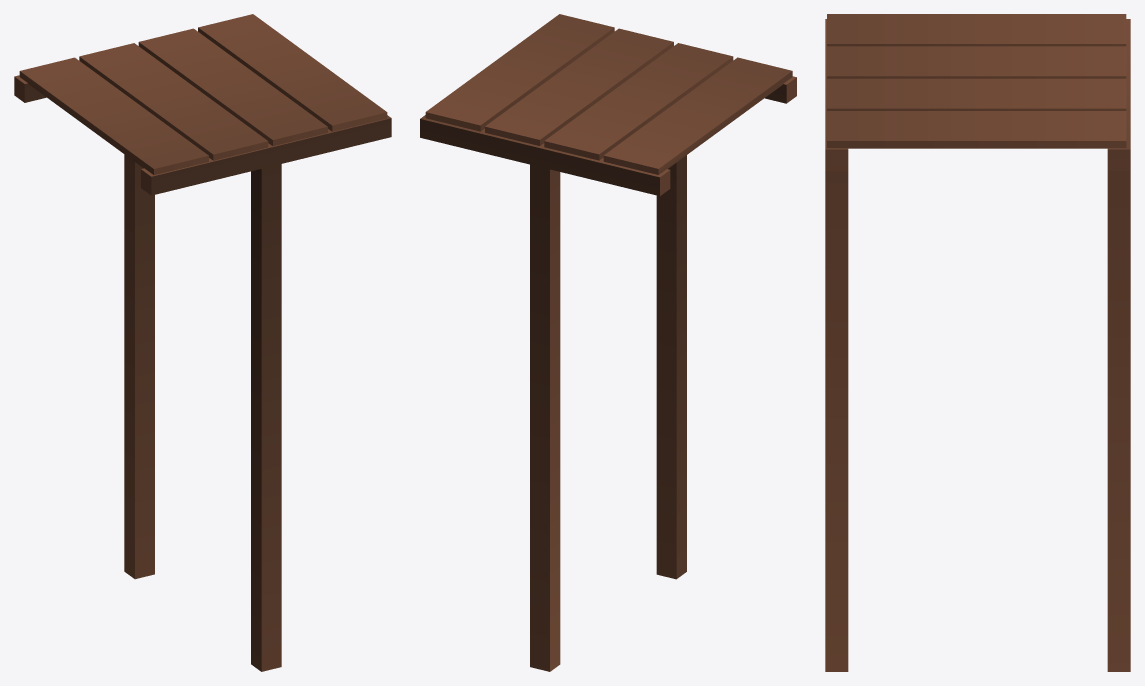
The model's file is PierMid.fbx.
3 views of the same model, side by side, from view 1: azimuth 30°, elevation 25°; view 2: azimuth 150°, elevation 25°; view 3: azimuth 270°, elevation 25° (orthographic). The views are drawn at different scales.
Visible parts, largest first — view 1: PireMid_LOD0; view 2: PireMid_LOD0; view 3: PireMid_LOD0.
Boxes of the visible parts, box(x1,y1,x2,y2) form: PireMid_LOD0: box(14, 14, 391, 671); PireMid_LOD0: box(420, 14, 796, 671); PireMid_LOD0: box(825, 14, 1130, 671).
Size of what is drawn, in the model's own units: 193 by 406 by 191.
